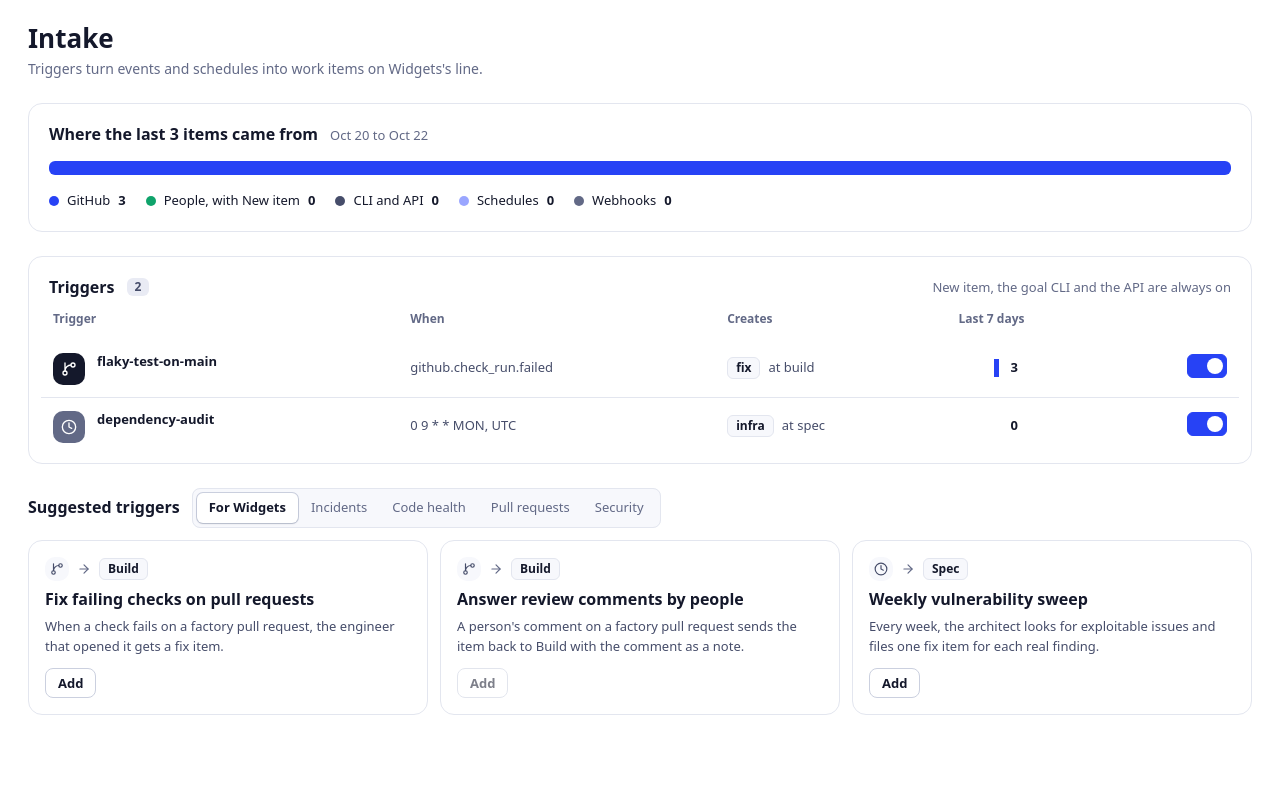
Test: the Intake switch › reverts the switch and says why when the publish fails
This screenshot has width=1280, height=800.
Click the switch named "flaky-test-on-main": (1207, 366) x1=1187 y1=354 x2=1227 y2=378
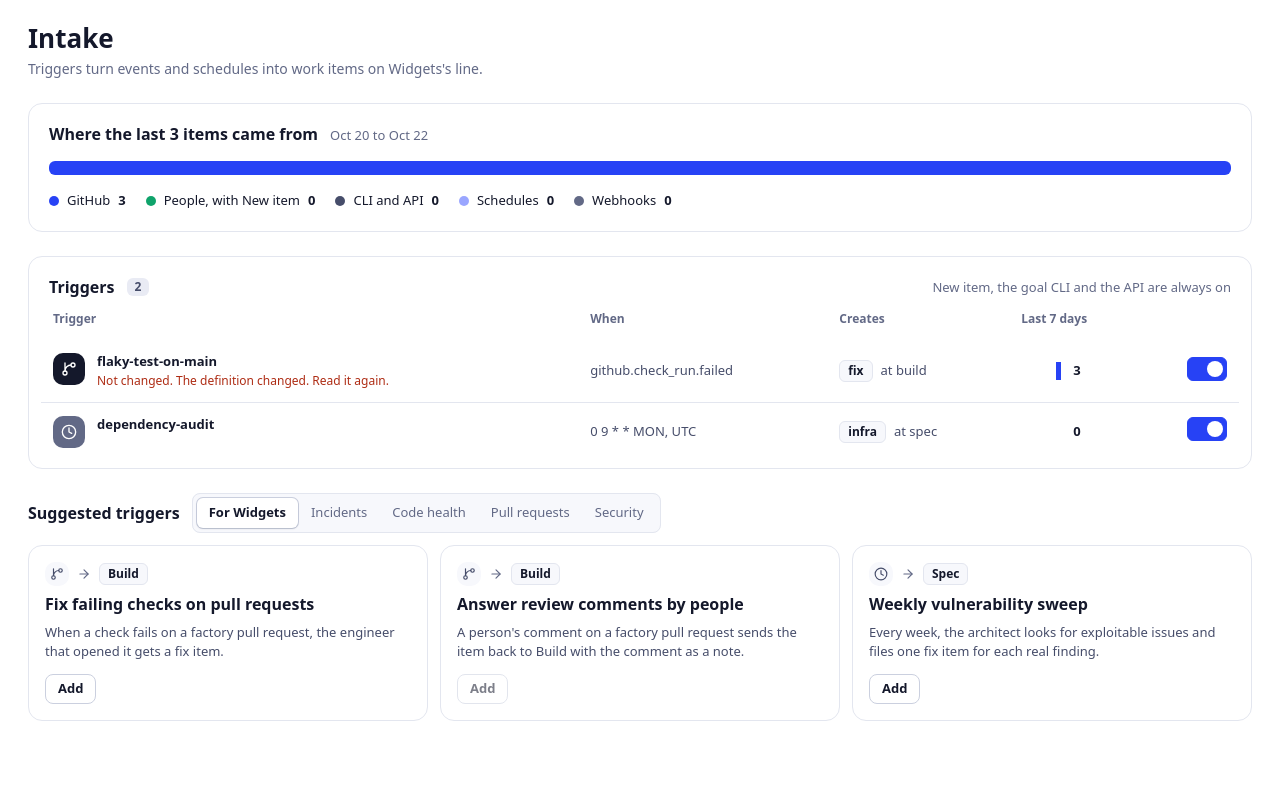
Check: the text "Not changed. The definition changed. Read it again." is shown, box x1=97 y1=372 x2=389 y2=390
